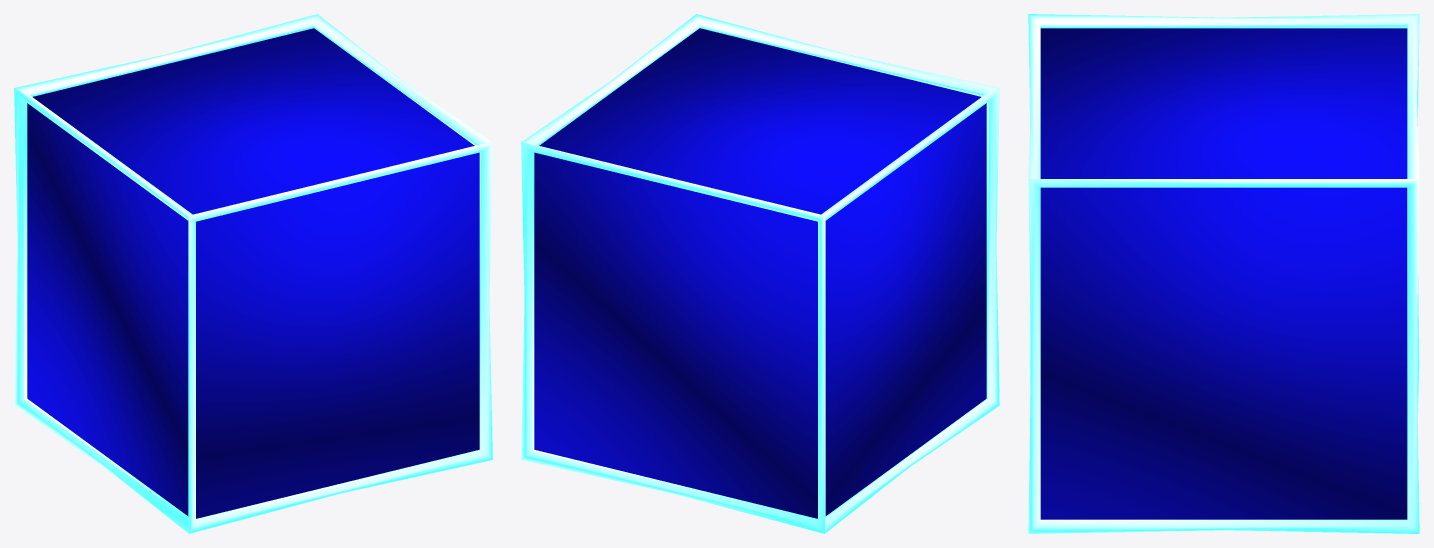
File: Icon.gltf
3 views of the same model, side by side, from view 1: azimuth 30°, elevation 25°; view 2: azimuth 150°, elevation 25°; view 3: azimuth 270°, elevation 25° (orthographic). The views are drawn at different scales.
Visible parts, largest first — view 1: BoundingBox; view 2: BoundingBox; view 3: BoundingBox.
Part boxes in pixels (x1,y1,x2,y2): BoundingBox: (14, 14, 492, 533); BoundingBox: (521, 14, 999, 533); BoundingBox: (1028, 14, 1419, 533).
Bounding box in the file's own units: 1 × 1 × 1.
